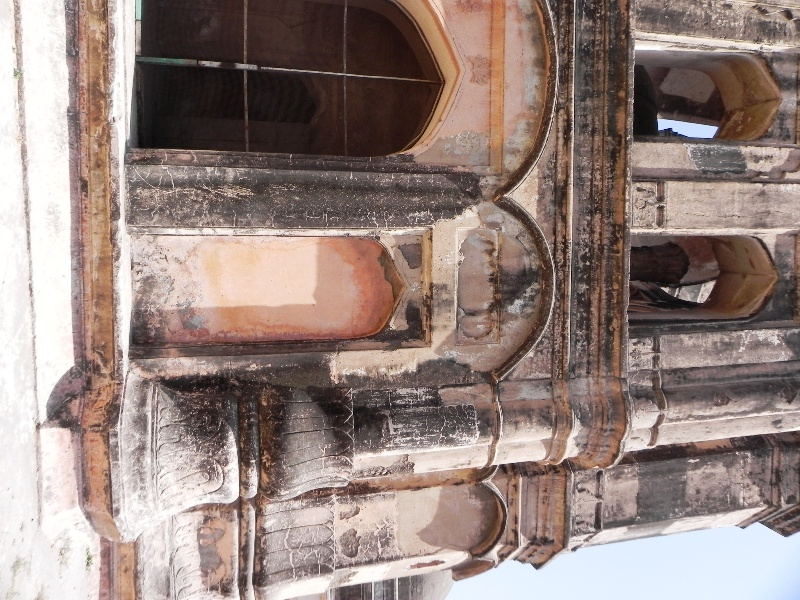Spalling: (401, 295, 433, 347), (395, 229, 428, 276)
